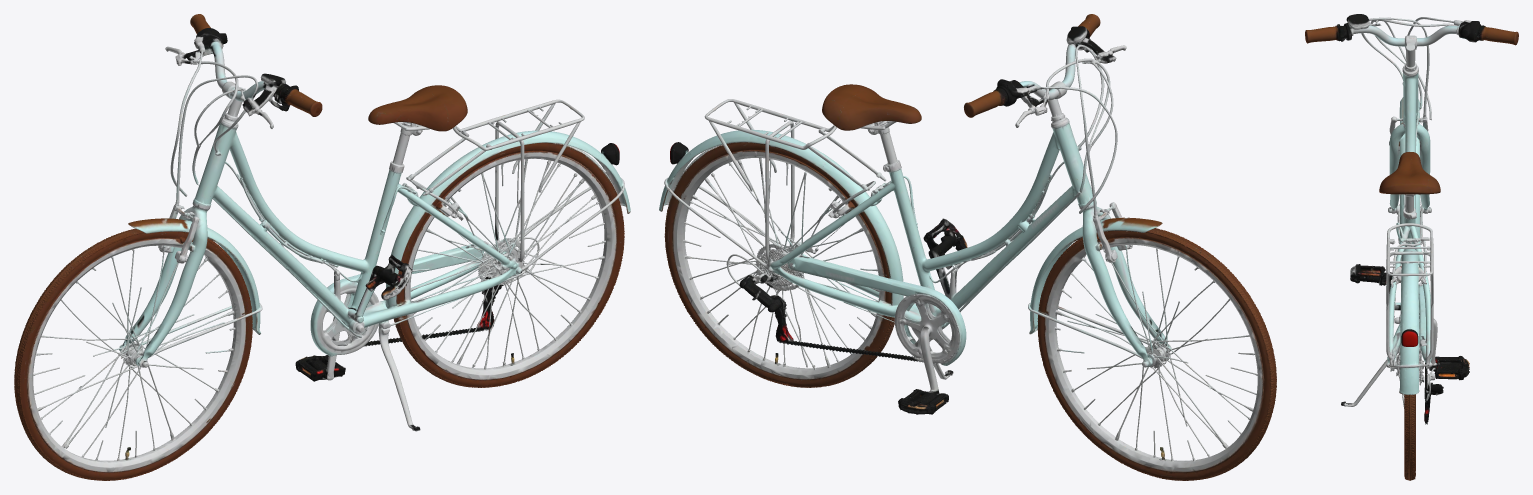
Rendered from bike.glb.
The picture shows the model from 3 angles, left to right: view 1: azimuth 30°, elevation 25°; view 2: azimuth 150°, elevation 25°; view 3: azimuth 270°, elevation 25°; orthographic projection. The views are drawn at different scales.
Bounding box in the file's own units: 1.9 × 1.18 × 0.663.
Materials: 1 (1 with a texture image).
